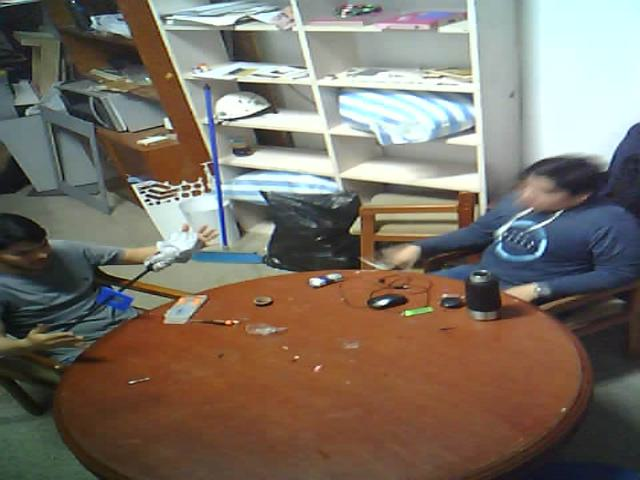person: (364, 92, 640, 348), (0, 170, 267, 397)
